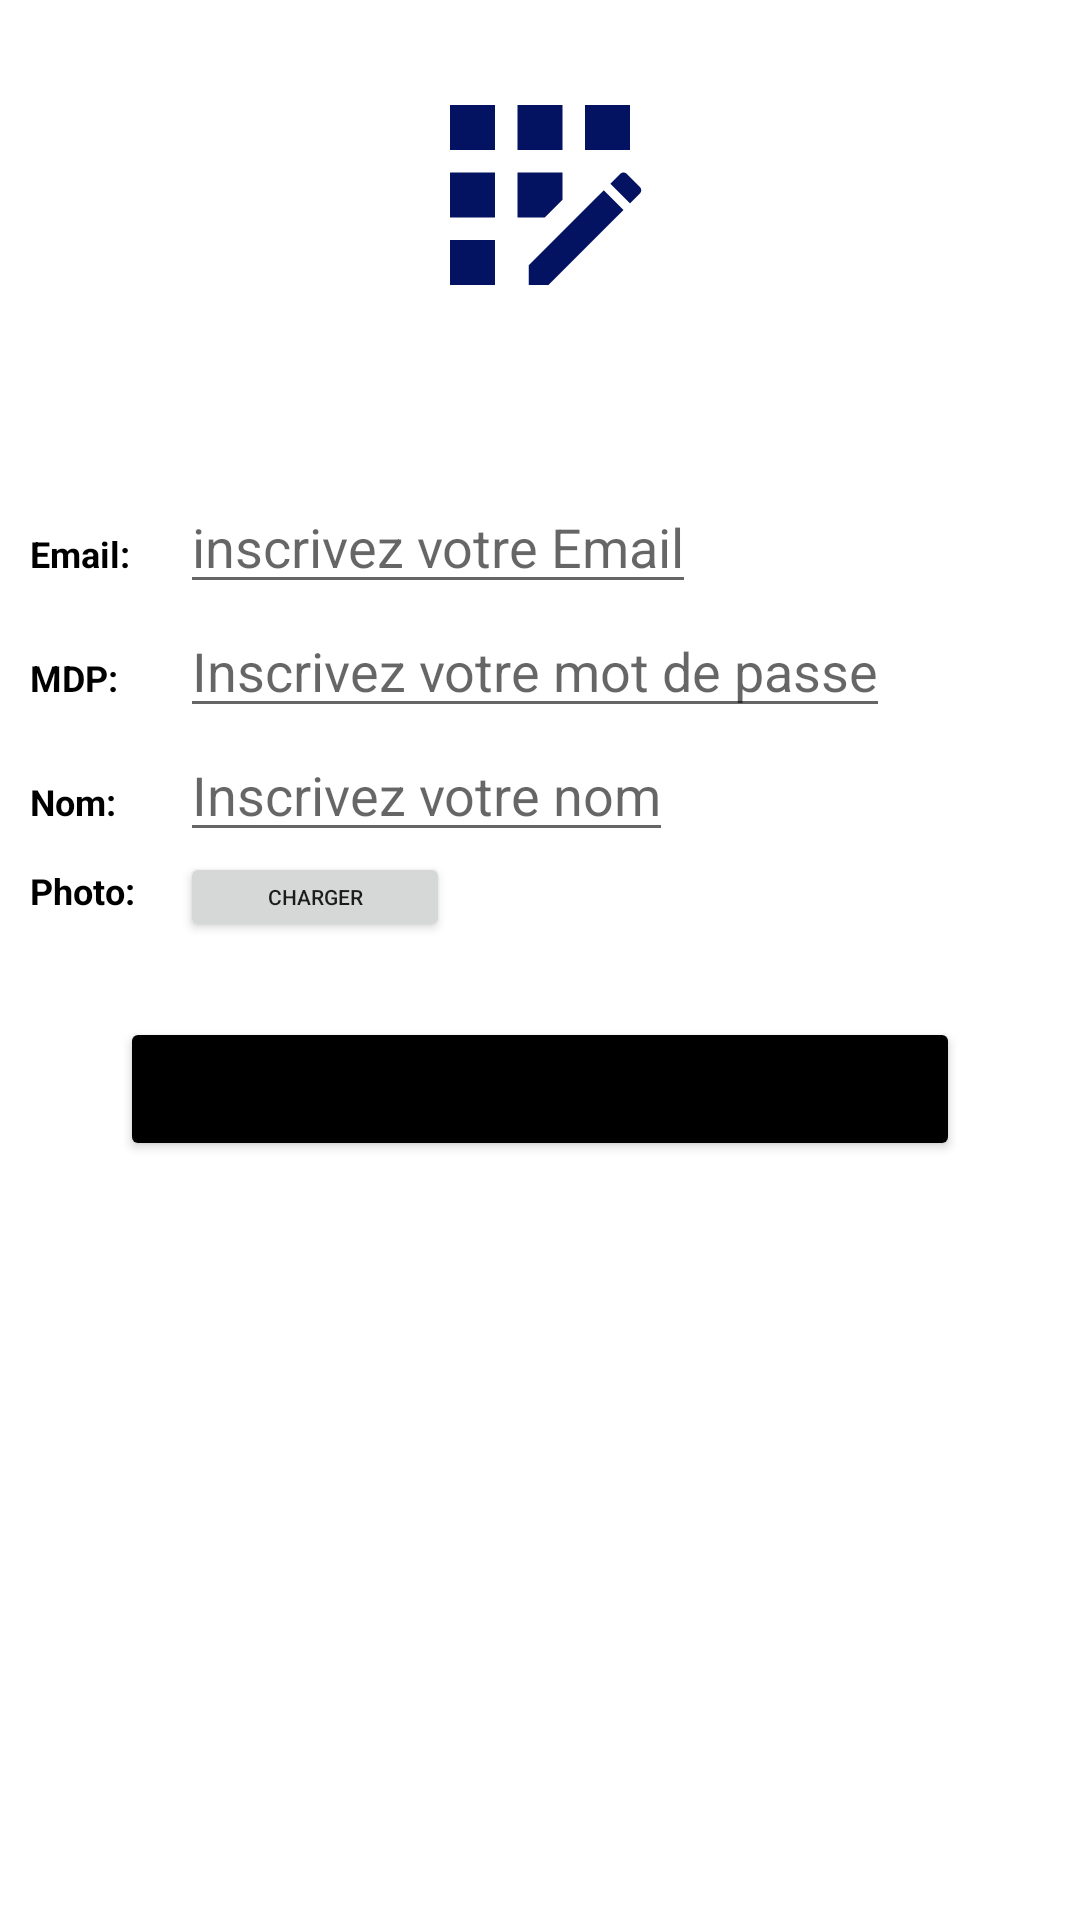

Where to tap for icons on this 1080px x 1920px app screen, as [x,y]:
registration: [546,195]
